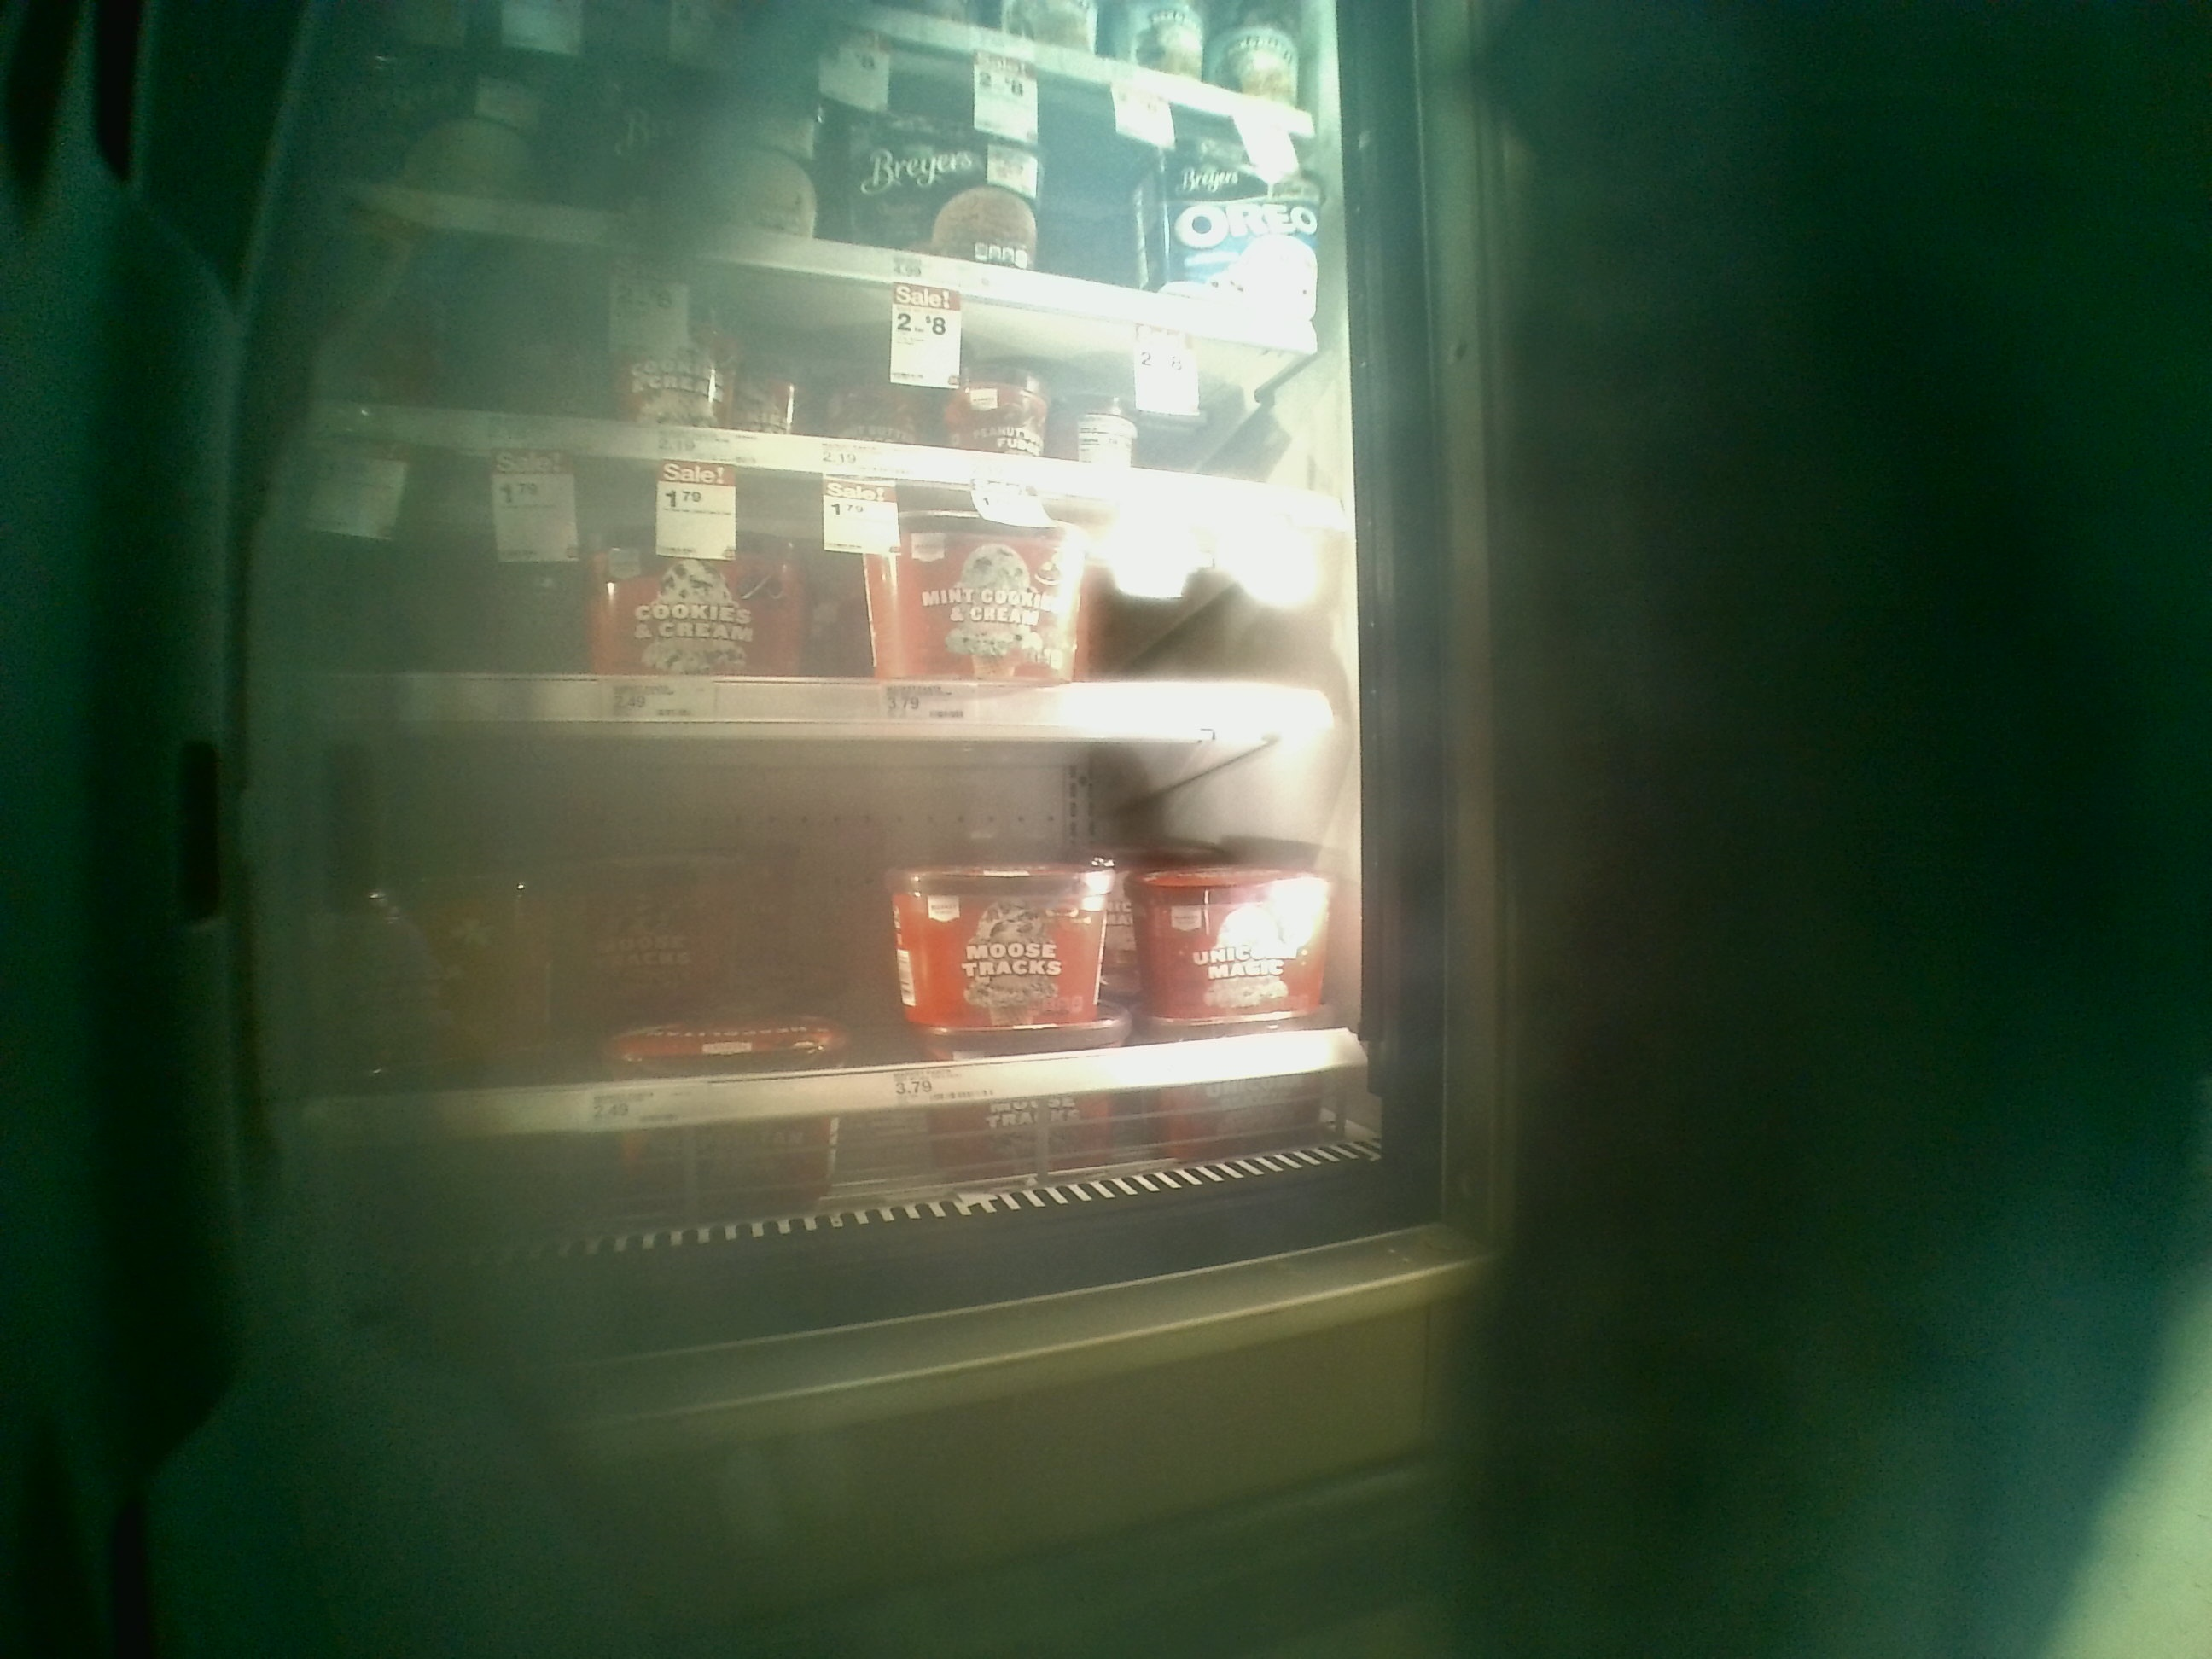shelf: (294, 732, 1367, 1190), (289, 441, 1353, 732)
